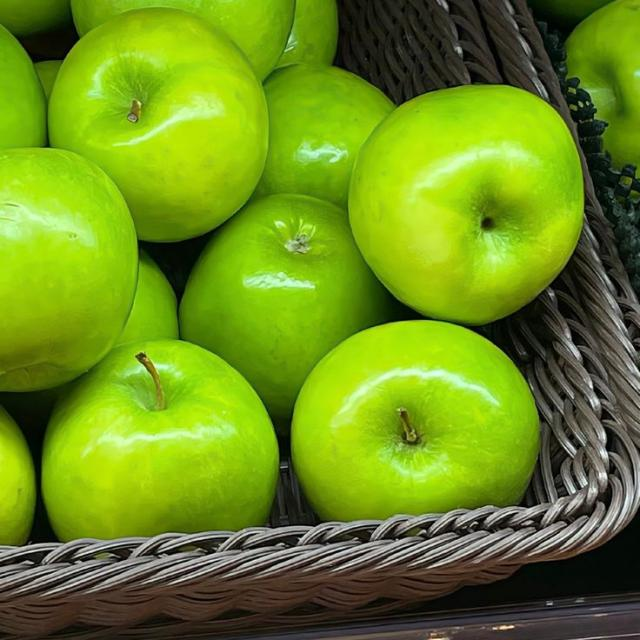apple: (349, 86, 583, 325), (180, 195, 399, 433), (49, 9, 267, 241), (292, 320, 539, 520), (42, 340, 279, 540), (0, 149, 137, 391), (258, 64, 393, 207), (72, 0, 295, 79), (567, 0, 639, 166), (117, 251, 179, 346), (0, 21, 46, 149), (118, 251, 179, 344), (0, 407, 36, 545), (0, 382, 73, 436), (279, 0, 338, 66), (0, 0, 71, 37), (529, 0, 612, 26), (34, 60, 61, 99)
